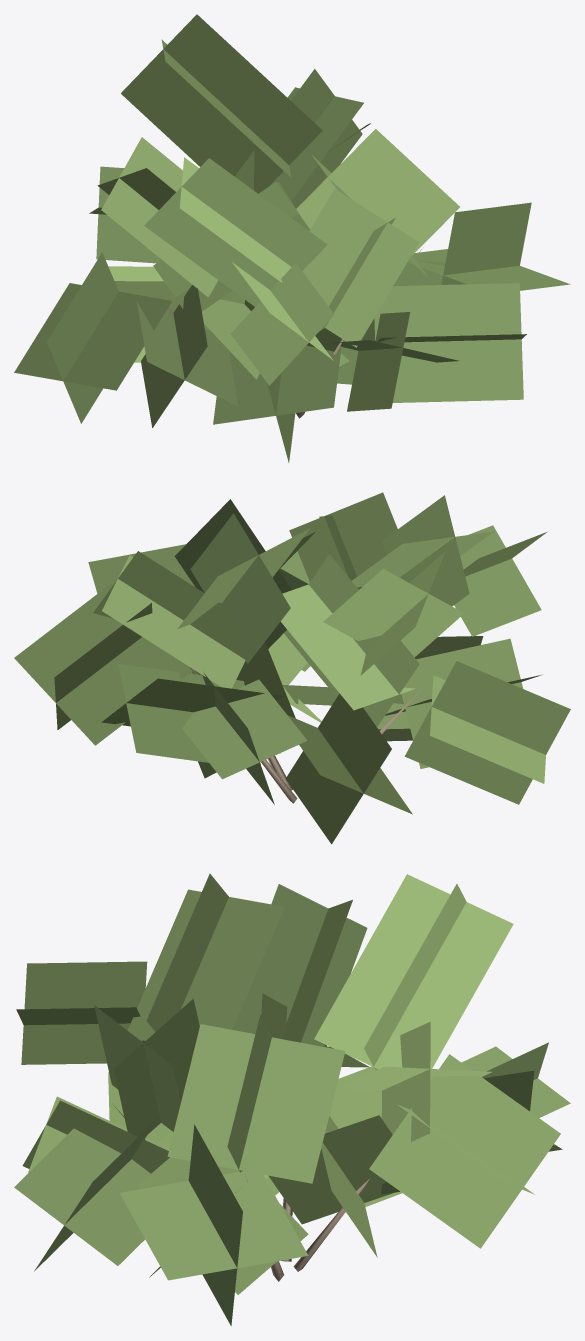
Rendered from Hazel_3_lod2.glb.
3 renders of one model, top to bottom at view 1: azimuth 30°, elevation 25°; view 2: azimuth 150°, elevation 25°; view 3: azimuth 270°, elevation 25°, orthographic. The views are drawn at different scales.
Parts seen in each view (by area): view 1: Hazel_3_lod2; view 2: Hazel_3_lod2; view 3: Hazel_3_lod2.
Boxes of the visible parts, bbox=[...] form: Hazel_3_lod2: bbox=[14, 14, 570, 462]; Hazel_3_lod2: bbox=[14, 492, 570, 844]; Hazel_3_lod2: bbox=[14, 873, 570, 1325].
Bounding box in the file's own units: 4.39 × 2.93 × 3.87.
